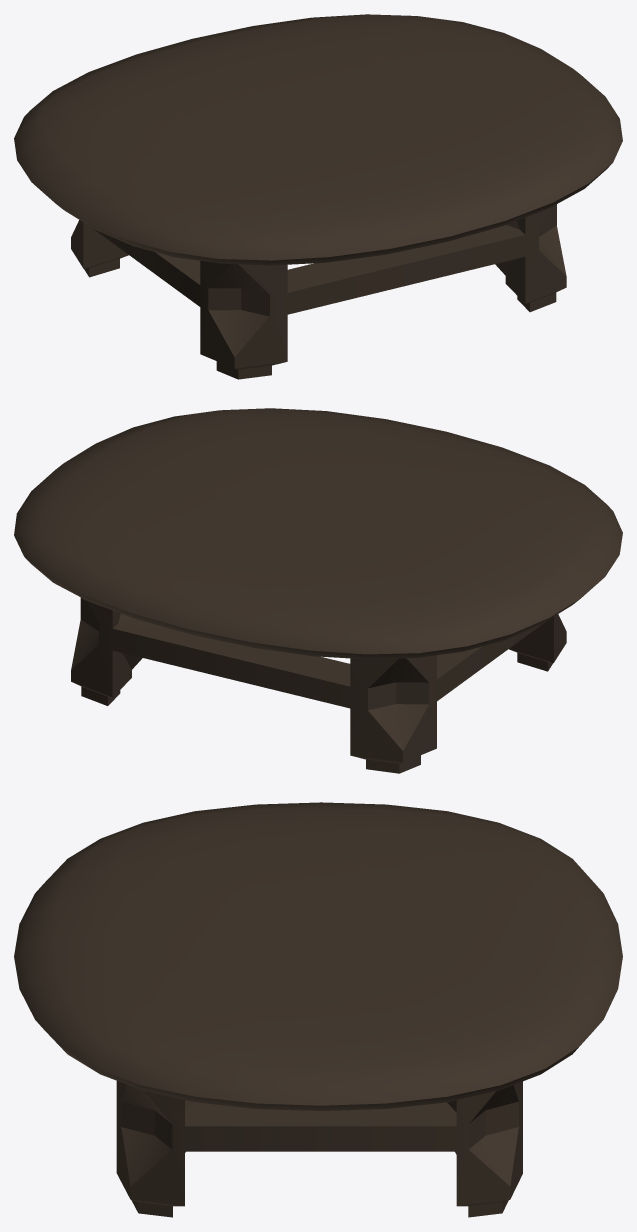
Rendered from Coffee table.fbx.
3 views of the same model, one above another, from view 1: azimuth 30°, elevation 25°; view 2: azimuth 150°, elevation 25°; view 3: azimuth 270°, elevation 25° (orthographic). The views are drawn at different scales.
Visible parts, largest first — view 1: Box049; view 2: Box049; view 3: Box049.
Boxes of the visible parts, x1,y1,x2,y2 form: Box049: [14, 14, 622, 379]; Box049: [14, 408, 622, 773]; Box049: [14, 802, 622, 1217].
Size of the model in its own units: 75.87 by 23.08 by 65.54.
